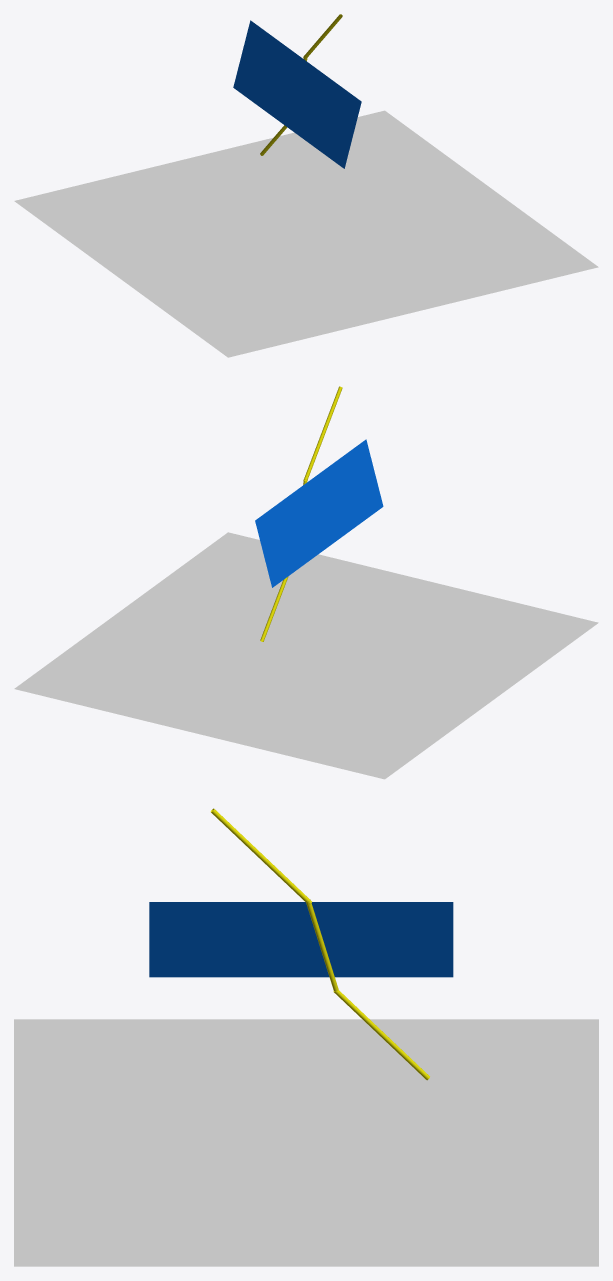
Rendered from refraction.gltf.
3 renders of one model, top to bottom at view 1: azimuth 30°, elevation 25°; view 2: azimuth 150°, elevation 25°; view 3: azimuth 270°, elevation 25°, orthographic. The views are drawn at different scales.
Visible parts, largest first — view 1: Plane.001, Plane; view 2: Plane.001, Plane, NurbsPath.001; view 3: Plane.001, Plane, NurbsPath.001.
Part boxes in pixels (left/top/right/bottom): Plane.001: left=14, top=110, right=598, bottom=357; Plane: left=233, top=20, right=361, bottom=168; Plane.001: left=14, top=532, right=598, bottom=779; Plane: left=255, top=439, right=383, bottom=587; NurbsPath.001: left=260, top=386, right=342, bottom=641; Plane.001: left=14, top=1019, right=598, bottom=1266; Plane: left=149, top=902, right=453, bottom=977; NurbsPath.001: left=210, top=808, right=429, bottom=1080.
Size of the model in its own units: 11.79 by 7.43 by 11.79.
